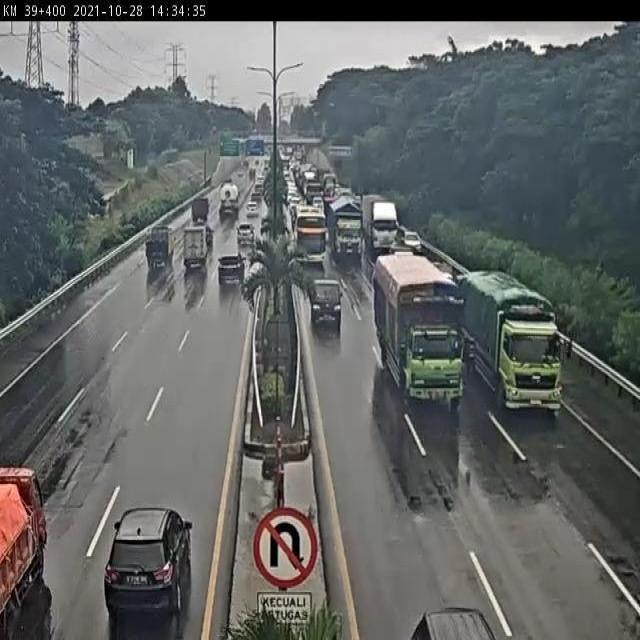car: (107, 504, 195, 615), (141, 221, 174, 275), (311, 276, 342, 327), (180, 227, 206, 279), (213, 253, 247, 292), (188, 193, 212, 224), (234, 223, 255, 253), (401, 229, 424, 252)
truck: (466, 266, 568, 414), (374, 252, 463, 407), (327, 193, 365, 264), (294, 203, 329, 265), (366, 188, 399, 252)
